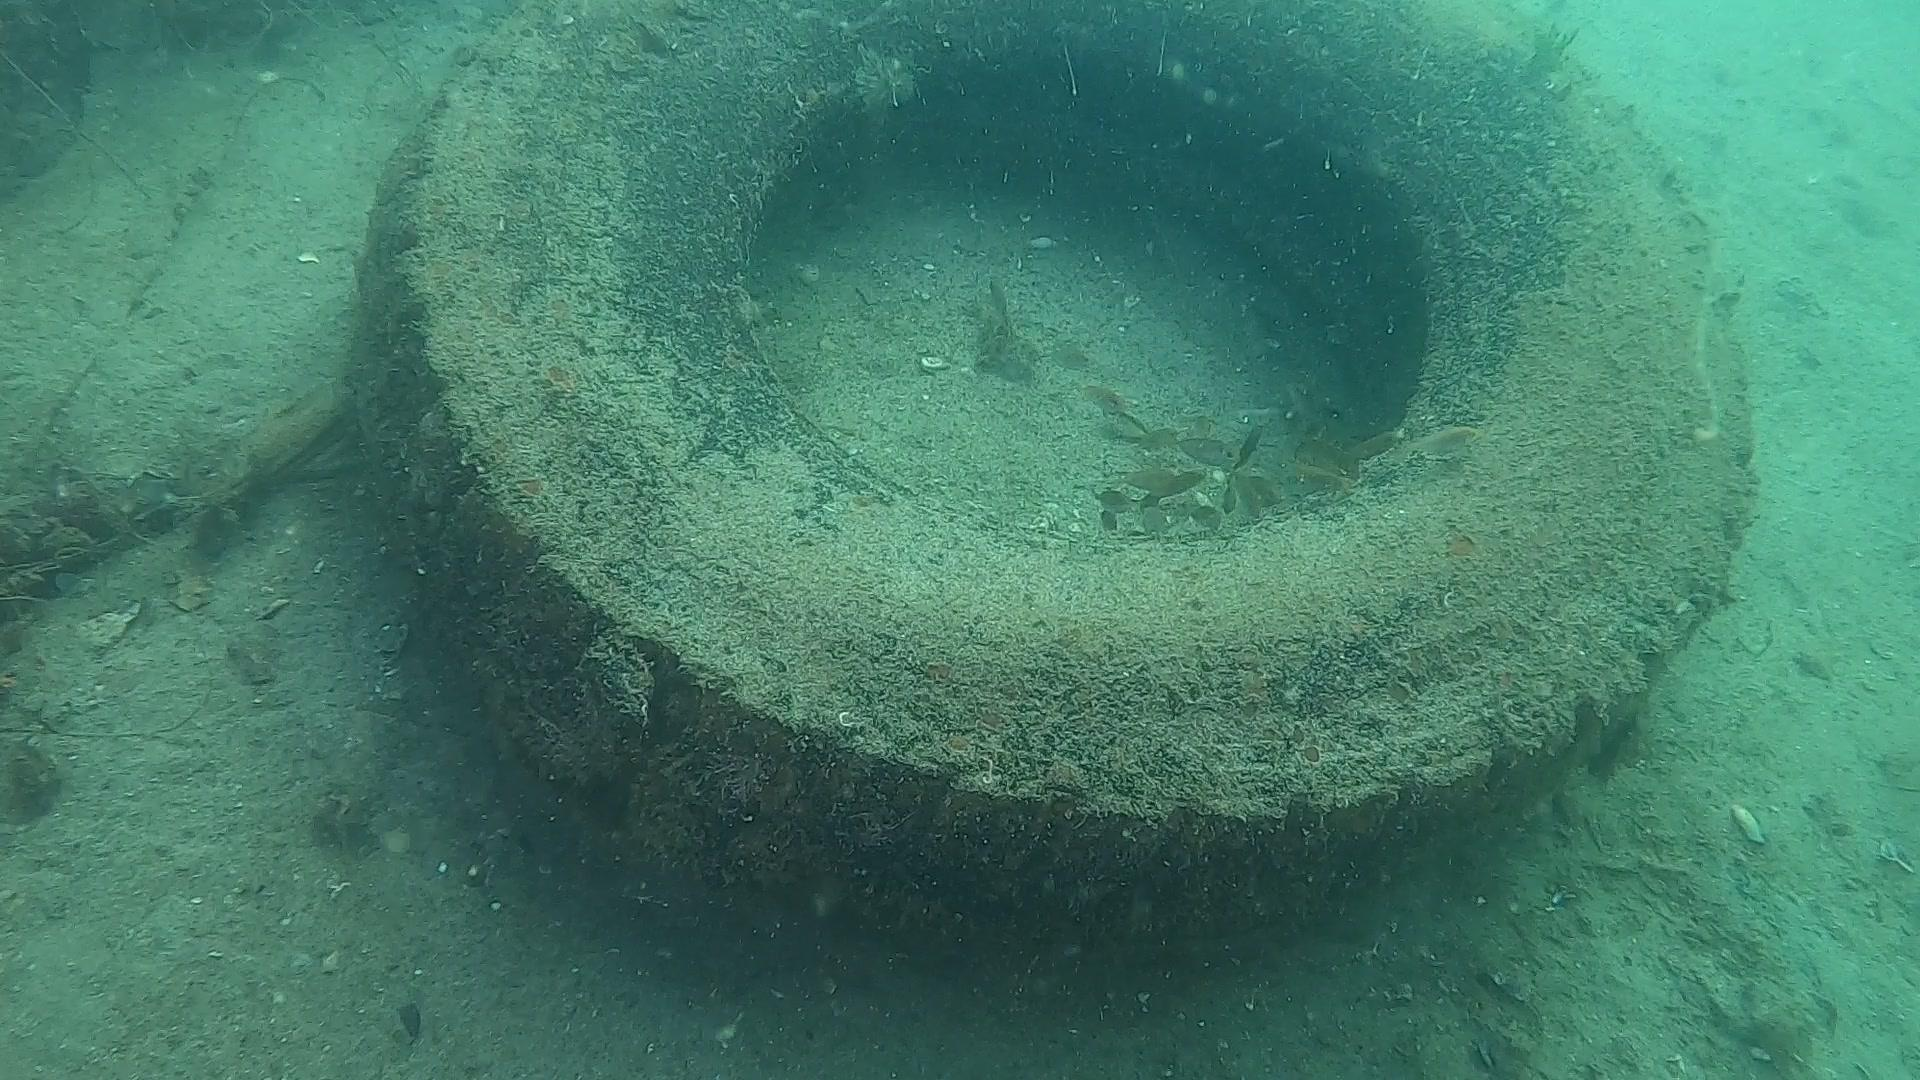tire: (348, 5, 1760, 928)
